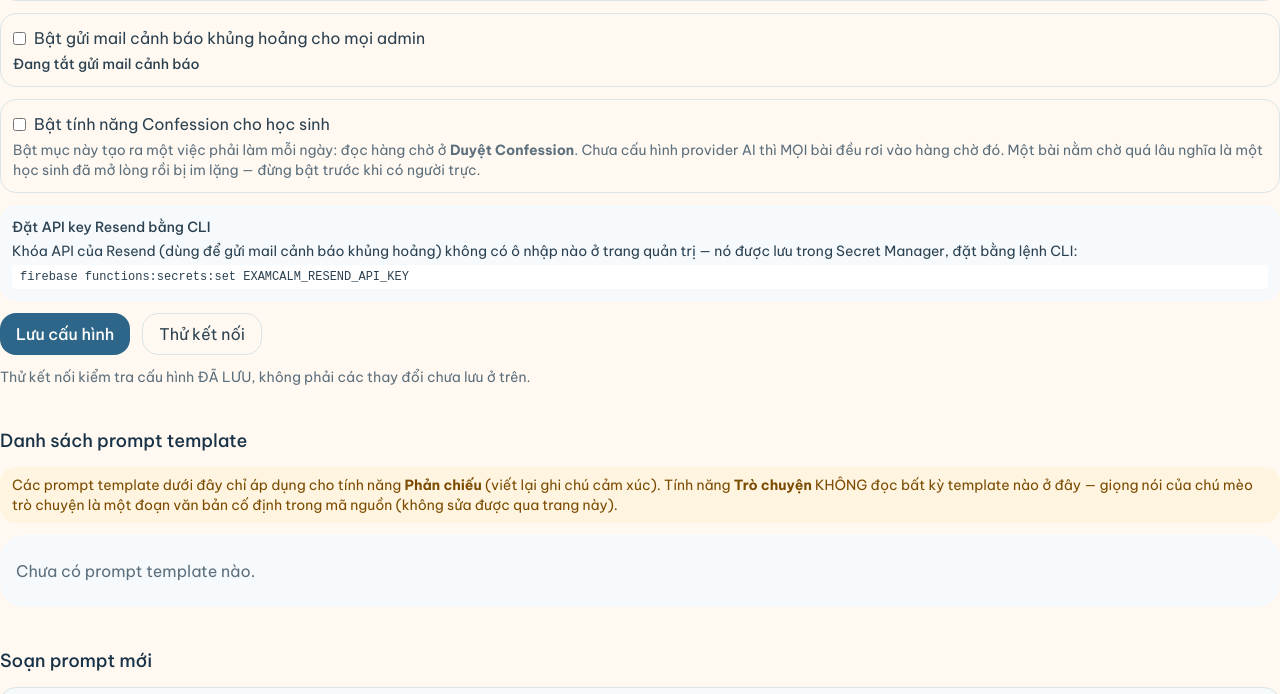
AiConfigEditor — Thử kết nối (Decision E) › bấm 'Thử kết nối' gọi callTestAiConnection và hiện kết quả thành công
(page scrolled)
Click the button "Thử kết nối" at {"x": 202, "y": 334}, box left=142, top=313, right=262, bottom=355
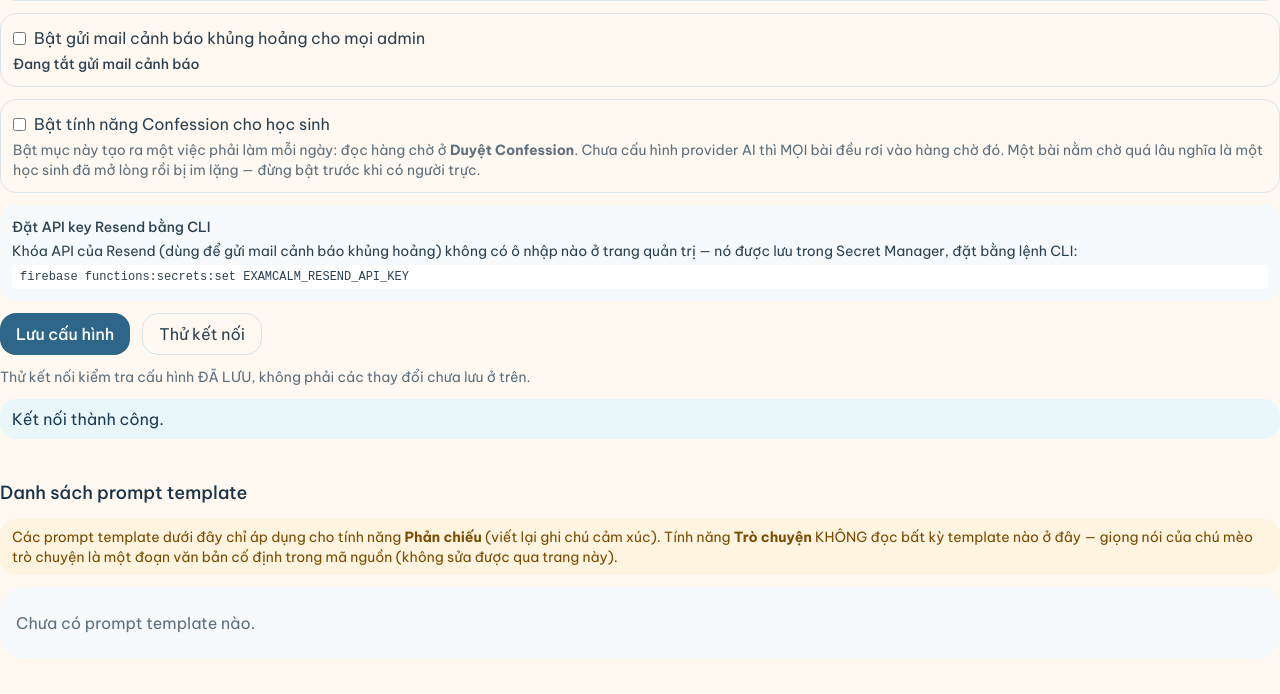
Check: the message shows "thành công", box left=12, top=409, right=164, bottom=429
